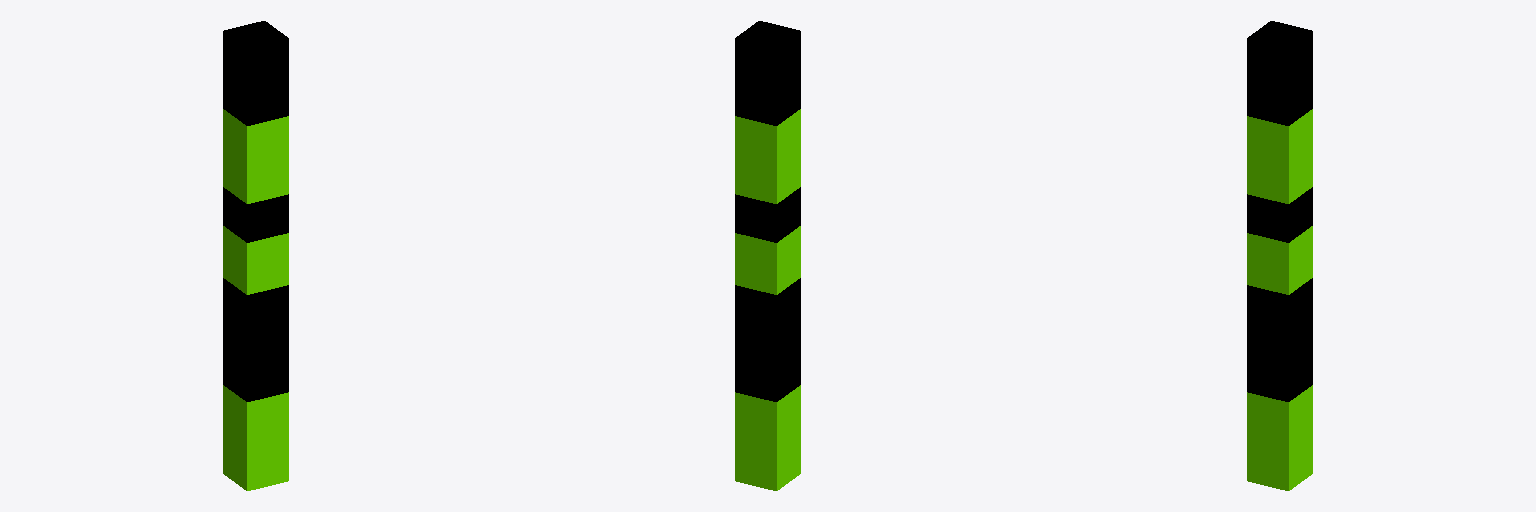
robot.urdf — ToPoArm:
<?xml version="1.0" ?>
<robot name="ToPoArm">

  <!-- Materials for visualization -->
  <material name="grey">
    <color rgba="0.5 0.5 0.5 1.0"/>
  </material>
  <material name="yellow_green">
    <color rgba="0.5 1.0 0.0 1.0"/>
  </material>
  <material name="black">
    <color rgba="0.0 0.0 0.0 1.0"/>
  </material>
  <material name="red">
    <color rgba="0.8 0.0 0.0 1.0"/>
  </material>

  <!-- ### BASE ### -->
  <link name="base_link">
    <inertial>
      <mass value="0.05"/>
      <origin xyz="0 0 0" rpy="0 0 0"/>
      <inertia ixx="0.0001" ixy="0" ixz="0" iyy="0.0001" iyz="0" izz="0.0001"/>
    </inertial>
  </link>

  <joint name="stand_joint" type="fixed">
    <parent link="base_link"/>
    <child link="stand_link"/>
    <origin xyz="0 0 0.01" rpy="0 0 0"/>
  </joint>

  <link name="stand_link">
    <visual>
      <origin xyz="0 0 0" rpy="0 0 0"/>
      <geometry>
        <box size="0.05 0.05 0.02"/>
      </geometry>
      <material name="yellow_green"/>
    </visual>
    <collision>
      <origin xyz="0 0 0" rpy="0 0 0"/>
      <geometry>
        <box size="0.05 0.05 0.04"/>
      </geometry>
    </collision>
    <inertial>
      <mass value="0.1"/>
      <inertia ixx="0.0001" ixy="0" ixz="0" iyy="0.0001" iyz="0" izz="0.0001"/>
    </inertial>
  </link>

  <!-- ### JOINT 1 & LINK 1 ### -->
  <joint name="joint1" type="revolute">
    <parent link="stand_link"/>
    <child link="link1"/>
    <origin xyz="0 0 0.01" rpy="0 0 0"/>
    <axis xyz="0 0 1"/>
    <limit lower="-3.14159" upper="3.14159" effort="100" velocity="1.0"/>
  </joint>

  <link name="link1">
    <visual>
      <origin xyz="0 0 0.04125" rpy="0 0 0"/>
      <geometry>
        <box size="0.05 0.05 0.0825"/>
      </geometry>
      <material name="yellow_green"/>
    </visual>
    <collision>
      <origin xyz="0 0 0.04125" rpy="0 0 0"/>
      <geometry>
        <box size="0.05 0.05 0.0825"/>
      </geometry>
    </collision>
    <inertial>
      <mass value="0.12"/>
      <origin xyz="0 0 0.04125" rpy="0 0 0"/>
      <inertia ixx="0.000164" ixy="0" ixz="0" iyy="0.000164" iyz="0" izz="0.000069"/>
    </inertial>
  </link>

  <!-- ### JOINT 2 & LINK 2 ### -->
  <joint name="joint2" type="revolute">
    <parent link="link1"/>
    <child link="link2"/>
    <origin xyz="0 0 0.0825" rpy="0 0 0"/>
    <axis xyz="0 1 0"/>
    <limit lower="-3.14159" upper="3.14159" effort="100" velocity="1.0"/>
  </joint>

  <link name="link2">
    <visual>
      <origin xyz="0 0 0.06175" rpy="0 0 0"/>
      <geometry>
        <box size="0.05 0.05 0.1235"/>
      </geometry>
      <material name="black"/>
    </visual>
    <collision>
      <origin xyz="0 0 0.06175" rpy="0 0 0"/>
      <geometry>
        <box size="0.05 0.05 0.1235"/>
      </geometry>
    </collision>
    <inertial>
      <mass value="0.12"/>
      <origin xyz="0 0 0.06175" rpy="0 0 0"/>
      <inertia ixx="0.000280" ixy="0" ixz="0" iyy="0.000280" iyz="0" izz="0.000069"/>
    </inertial>
  </link>

  <!-- ### JOINT 3 & LINK 3 ### -->
  <joint name="joint3" type="revolute">
    <parent link="link2"/>
    <child link="link3"/>
    <origin xyz="0 0 0.1235" rpy="0 0 0"/>
    <axis xyz="0 1 0"/>
    <limit lower="-3.14159" upper="3.14159" effort="100" velocity="1.0"/>
  </joint>

  <link name="link3">
    <visual>
      <origin xyz="0 0 0.03" rpy="0 0 0"/>
      <geometry>
        <box size="0.05 0.05 0.06"/>
      </geometry>
      <material name="yellow_green"/>
    </visual>
    <collision>
      <origin xyz="0 0 0.03" rpy="0 0 0"/>
      <geometry>
        <box size="0.05 0.05 0.06"/>
      </geometry>
    </collision>
    <inertial>
      <mass value="0.12"/>
      <origin xyz="0 0 0.03" rpy="0 0 0"/>
      <inertia ixx="0.0001" ixy="0" ixz="0" iyy="0.0001" iyz="0" izz="0.00004"/>
    </inertial>
  </link>

  <!-- ### JOINT 4 & LINK 4 (Virtual) ### -->
  <joint name="joint4" type="revolute">
    <parent link="link3"/>
    <child link="link4"/>
    <origin xyz="0 0 0.06" rpy="0 0 0"/>
    <axis xyz="0 0 1"/>
    <limit lower="-3.14159" upper="3.14159" effort="50" velocity="1.5"/>
  </joint>

  <link name="link4">
    <visual>
      <origin xyz="0 0 0.02225" rpy="0 0 0"/>
      <geometry>
        <box size="0.05 0.05 0.0445"/>
      </geometry>
      <material name="black"/>
    </visual>
    <collision>
      <origin xyz="0 0 0.02225" rpy="0 0 0"/>
      <geometry>
        <box size="0.05 0.05 0.0445"/>
      </geometry>
    </collision>
    <inertial>
      <mass value="0.08"/>
      <origin xyz="0 0 0.02225" rpy="0 0 0"/>
      <inertia ixx="0.00006" ixy="0" ixz="0" iyy="0.00006" iyz="0" izz="0.00002"/>
    </inertial>
  </link>

  <!-- ### JOINT 5 & LINK 5 (Wrist) ### -->
  <joint name="joint5" type="revolute">
    <parent link="link4"/>
    <child link="link5"/>
    <origin xyz="0 0 0.0445" rpy="0 0 0"/>
    <axis xyz="0 1 0"/>
    <limit lower="-3.14159" upper="3.14159" effort="50" velocity="1.5"/>
  </joint>

  <link name="link5">
    <visual>
      <origin xyz="0 0 0.045" rpy="0 0 0"/>
      <geometry>
        <box size="0.05 0.05 0.09"/>
      </geometry>
      <material name="yellow_green"/>
    </visual>
    <collision>
      <origin xyz="0 0 0.045" rpy="0 0 0"/>
      <geometry>
        <box size="0.05 0.05 0.09"/>
      </geometry>
    </collision>
    <inertial>
      <mass value="0.12"/>
      <origin xyz="0 0 0.045" rpy="0 0 0"/>
      <inertia ixx="0.00015" ixy="0" ixz="0" iyy="0.00015" iyz="0" izz="0.00006"/>
    </inertial>
  </link>

  <!-- ### JOINT 6 & TOOL LINK (Gripper) ### -->
  <joint name="joint6" type="revolute">
    <parent link="link5"/>
    <child link="tool_link"/>
    <origin xyz="0 0 0.09" rpy="0 0 0"/>
    <axis xyz="0 0 1"/>
    <limit lower="-3.14159" upper="3.14159" effort="50" velocity="1.5"/>
  </joint>

  <link name="tool_link">
    <visual>
      <origin xyz="0 0 0.045" rpy="0 0 0"/>
      <geometry>
        <box size="0.05 0.05 0.09"/>
      </geometry>
      <material name="black"/>
    </visual>
    <collision>
      <origin xyz="0 0 0.045" rpy="0 0 0"/>
      <geometry>
        <box size="0.05 0.05 0.09"/>
      </geometry>
    </collision>
    <inertial>
      <mass value="0.12"/>
      <origin xyz="0 0 0.045" rpy="0 0 0"/>
      <inertia ixx="0.00015" ixy="0" ixz="0" iyy="0.00015" iyz="0" izz="0.00006"/>
    </inertial>
  </link>

  <!-- ### GRIPPER FINGERS ### -->
  <!-- <joint name="left_finger_joint" type="prismatic">
    <parent link="tool_link"/>
    <child link="left_finger"/>
    <origin xyz="0 0.025 0.09" rpy="0 0 0"/>
    <axis xyz="0 1 0"/>
    <limit lower="-0.02" upper="0.0" effort="20" velocity="0.1"/>
  </joint> -->
<!-- 
  <link name="left_finger">
    <visual>
      <origin xyz="0 0 0.02" rpy="0 0 0"/>
      <geometry>
        <box size="0.01 0.01 0.04"/>
      </geometry>
      <material name="grey"/>
    </visual>
    <collision>
      <origin xyz="0 0 0.02" rpy="0 0 0"/>
      <geometry>
        <box size="0.01 0.01 0.04"/>
      </geometry>
    </collision>
    <inertial>
      <mass value="0.035"/>
      <origin xyz="0 0 0.02" rpy="0 0 0"/>
      <inertia ixx="0.00002" ixy="0" ixz="0" iyy="0.00002" iyz="0" izz="0.00001"/>
    </inertial>
  </link> -->
<!-- 
  <joint name="right_finger_joint" type="prismatic">
    <parent link="tool_link"/>
    <child link="right_finger"/>
    <origin xyz="0 -0.025 0.09" rpy="0 0 0"/>
    <axis xyz="0 1 0"/>
    <limit lower="0.0" upper="0.02" effort="20" velocity="0.1"/>
    <mimic joint="left_finger_joint" multiplier="-1.0"/>
  </joint>

  <link name="right_finger">
    <visual>
      <origin xyz="0 0 0.02" rpy="0 0 0"/>
      <geometry>
        <box size="0.01 0.01 0.04"/>
      </geometry>
      <material name="grey"/>
    </visual>
    <collision>
      <origin xyz="0 0 0.02" rpy="0 0 0"/>
      <geometry>
        <box size="0.01 0.01 0.04"/>
      </geometry>
    </collision>
    <inertial>
      <mass value="0.035"/>
      <origin xyz="0 0 0.02" rpy="0 0 0"/>
      <inertia ixx="0.00002" ixy="0" ixz="0" iyy="0.00002" iyz="0" izz="0.00001"/>
    </inertial>
  </link> -->

  <!-- ### TOOL CENTER POINT ### -->
  <joint name="tcp_joint" type="fixed">
    <parent link="tool_link"/>
    <child link="tcp"/>
    <origin xyz="0 0 0.09" rpy="0 0 0"/>
  </joint>
  
  <link name="tcp">
    <inertial>
      <mass value="0.01"/>
      <origin xyz="0 0 0" rpy="0 0 0"/>
      <inertia ixx="0.00002" ixy="0" ixz="0" iyy="0.00002" iyz="0" izz="0.00001"/>
    </inertial>
  </link>

</robot>

--- Facts derived from the render (not from the file) ---
3 views of the same robot in one strip: view 1: azimuth 30°, elevation 25°; view 2: azimuth 150°, elevation 25°; view 3: azimuth 330°, elevation 25° (orthographic).
Robot: ToPoArm — 9 links, 8 joints (6 revolute, 2 fixed); root link base_link; default pose: all joints at 0.
Links seen in each view (by area): view 1: link2, tool_link, link5, link1, link3, link4, stand_link; view 2: link2, tool_link, link5, link1, link3, link4, stand_link; view 3: link2, tool_link, link5, link1, link3, link4, stand_link.
Link boxes in pixels (bbox=[...]): link2: bbox=[223, 278, 288, 401]; tool_link: bbox=[223, 21, 288, 125]; link5: bbox=[223, 109, 288, 203]; link1: bbox=[223, 385, 288, 473]; link3: bbox=[223, 226, 288, 294]; link4: bbox=[223, 187, 288, 242]; stand_link: bbox=[223, 457, 288, 490]; link2: bbox=[735, 278, 800, 401]; tool_link: bbox=[735, 21, 800, 125]; link5: bbox=[735, 109, 800, 203]; link1: bbox=[735, 385, 800, 473]; link3: bbox=[735, 226, 800, 294]; link4: bbox=[735, 187, 800, 242]; stand_link: bbox=[735, 457, 800, 490]; link2: bbox=[1247, 278, 1312, 401]; tool_link: bbox=[1247, 21, 1312, 125]; link5: bbox=[1247, 109, 1312, 203]; link1: bbox=[1247, 385, 1312, 473]; link3: bbox=[1247, 226, 1312, 294]; link4: bbox=[1247, 187, 1312, 242]; stand_link: bbox=[1247, 457, 1312, 490].
Bounding box of the posed robot: 0.05 × 0.05 × 0.5105 m (x, y, z).
Geometry: primitives only (box / cylinder / sphere), no mesh files.
